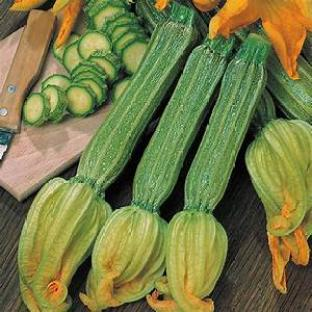Zucchini: (19, 4, 197, 310), (82, 39, 232, 310), (166, 35, 270, 310), (77, 4, 197, 190), (268, 54, 311, 123), (74, 76, 108, 106), (252, 90, 276, 132), (90, 51, 121, 83), (78, 31, 111, 59), (121, 39, 148, 73), (67, 84, 95, 116), (43, 86, 67, 122), (23, 93, 49, 125), (113, 32, 147, 55), (102, 12, 139, 33), (53, 34, 79, 62), (63, 41, 83, 72), (111, 24, 144, 41), (71, 61, 106, 76), (72, 69, 107, 83), (112, 77, 131, 102), (42, 74, 70, 90), (302, 33, 311, 65)
